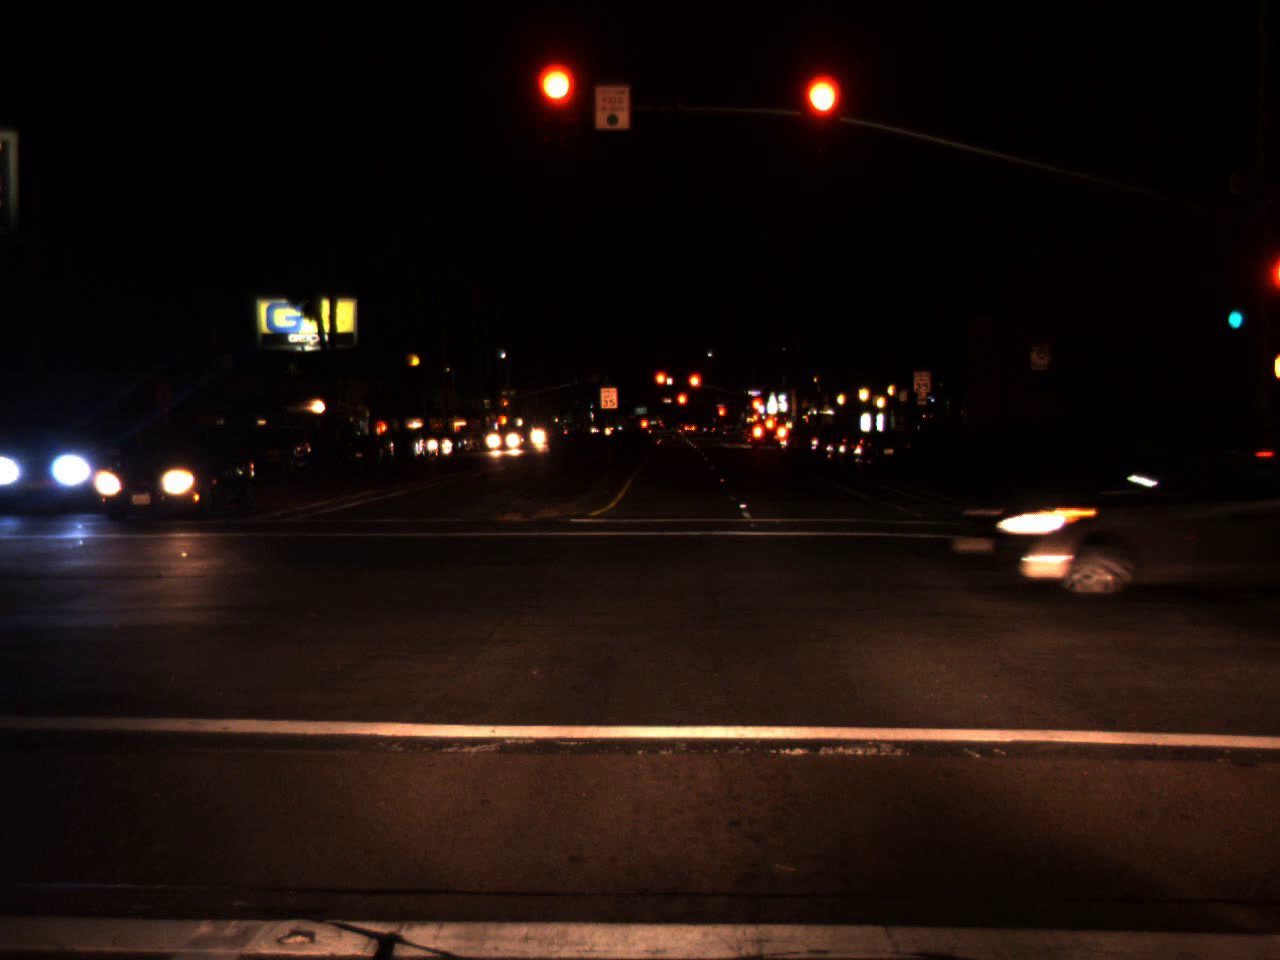stop: (538, 65, 578, 143), (801, 75, 841, 153), (653, 369, 671, 401), (686, 371, 702, 403), (675, 391, 688, 418), (751, 397, 761, 421), (717, 406, 726, 427), (503, 398, 509, 414)
